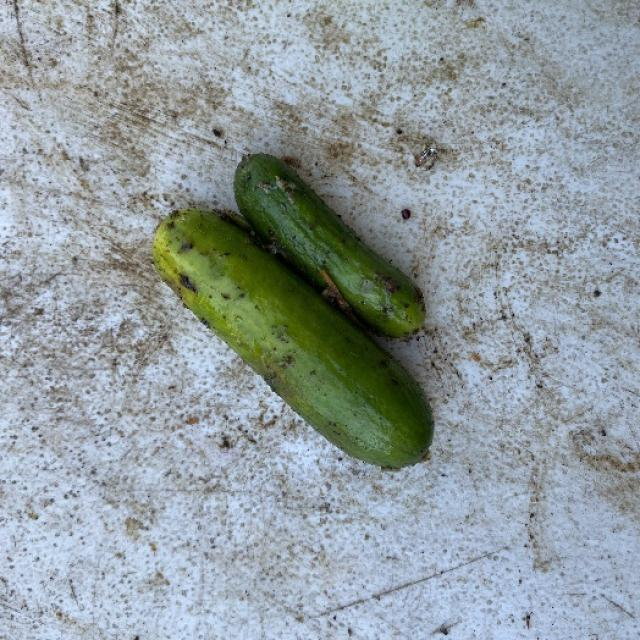organik: (140, 201, 431, 468), (223, 142, 430, 336)
